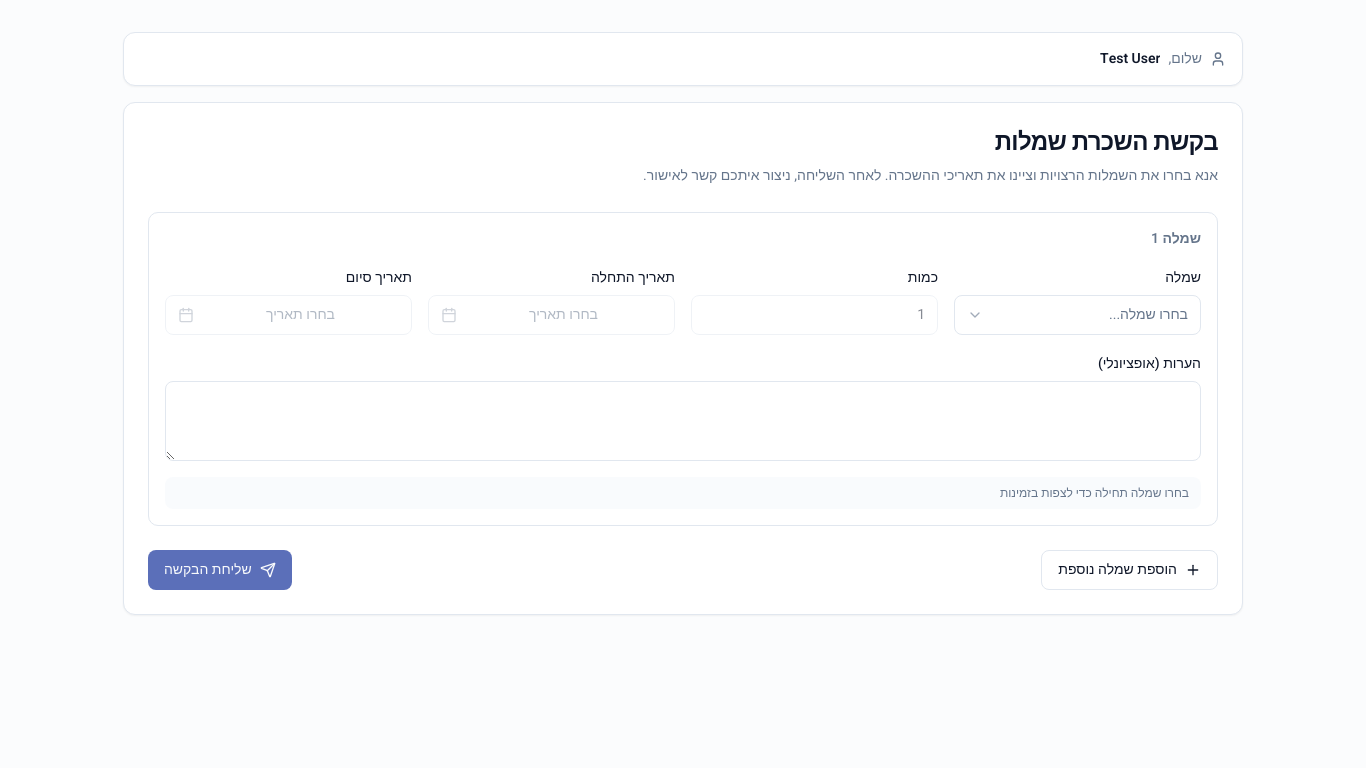
RequestPage › filters the dress list as the user types in the combobox search
The width and height of the screenshot is (1366, 768).
Step 1. Click the button labelled "בחרו שמלה..." → [1078, 315], box [954,295,1201,335]
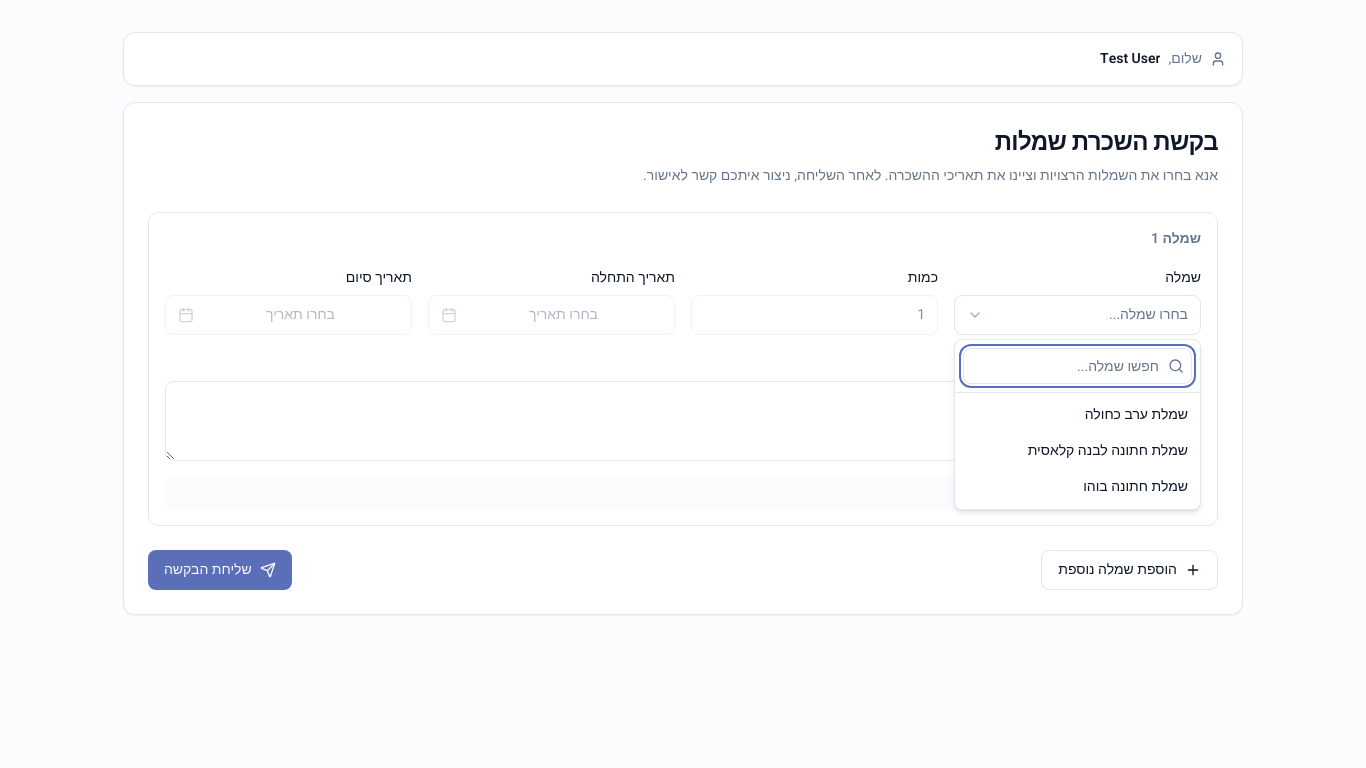
Expected: the option "שמלת ערב כחולה" is shown, [959,397,1196,433]
Expected: the option "שמלת חתונה לבנה קלאסית" is shown, [959,433,1196,469]
Step 2. Type "בוהו" into the field named "חיפוש שמלה" → [1078, 366], box [963,348,1192,384]
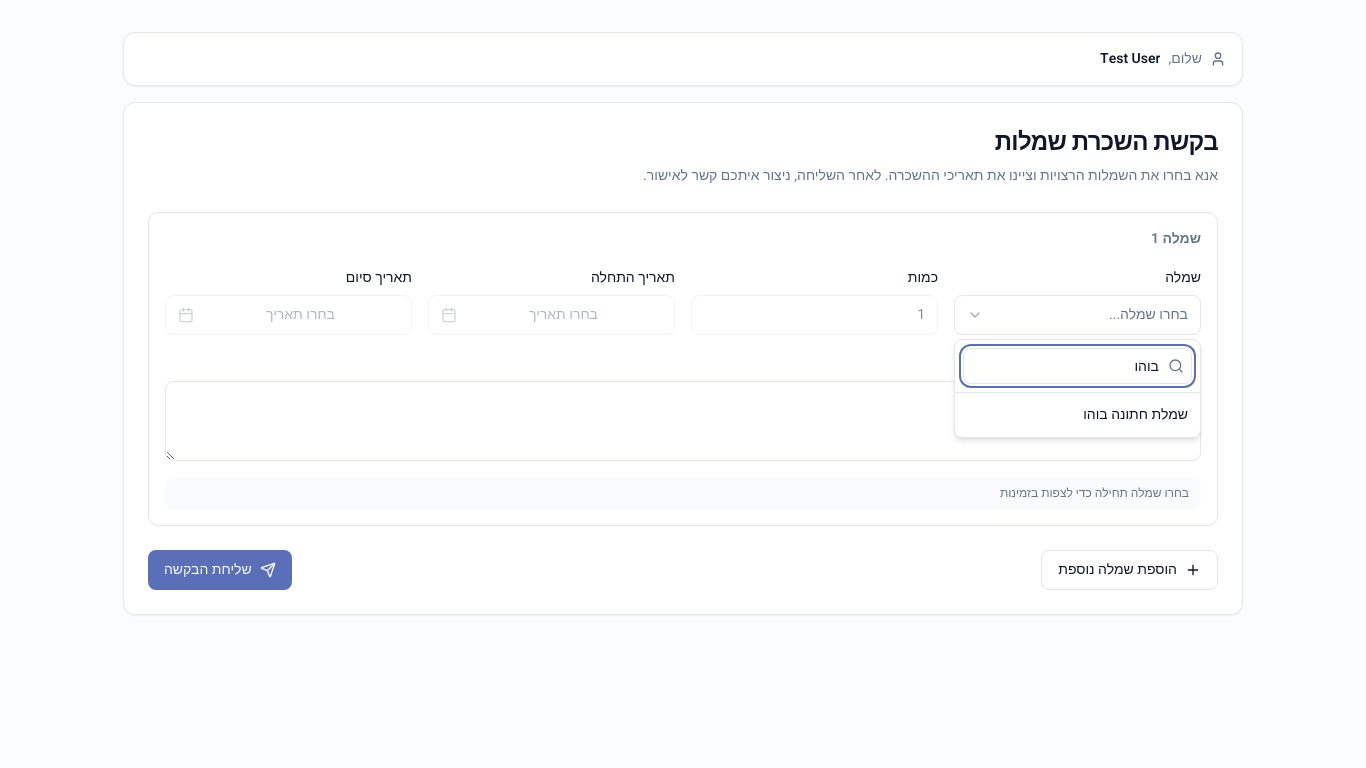
Expected: the option "שמלת חתונה בוהו" is shown, [959,397,1196,433]
Expected: the option "שמלת ערב כחולה" is gone
